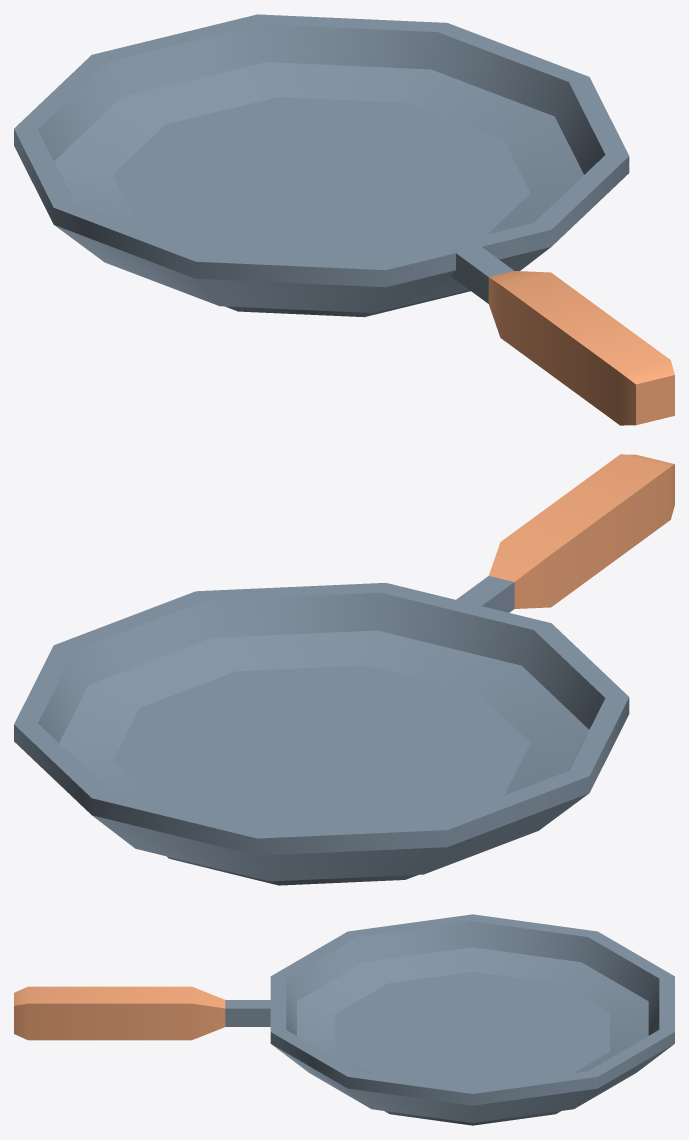
File: fryingPan.GLB
3 renders of one model, top to bottom at view 1: azimuth 30°, elevation 25°; view 2: azimuth 150°, elevation 25°; view 3: azimuth 270°, elevation 25°, orthographic. The views are drawn at different scales.
Visible parts, largest first — view 1: fryingPan; view 2: fryingPan; view 3: fryingPan.
Part boxes in pixels (x1,y1,x2,y2): fryingPan: (14, 14, 674, 425); fryingPan: (14, 454, 674, 885); fryingPan: (14, 914, 674, 1125).
Bounding box in the file's own units: 0.6574 × 0.1206 × 1.02.
